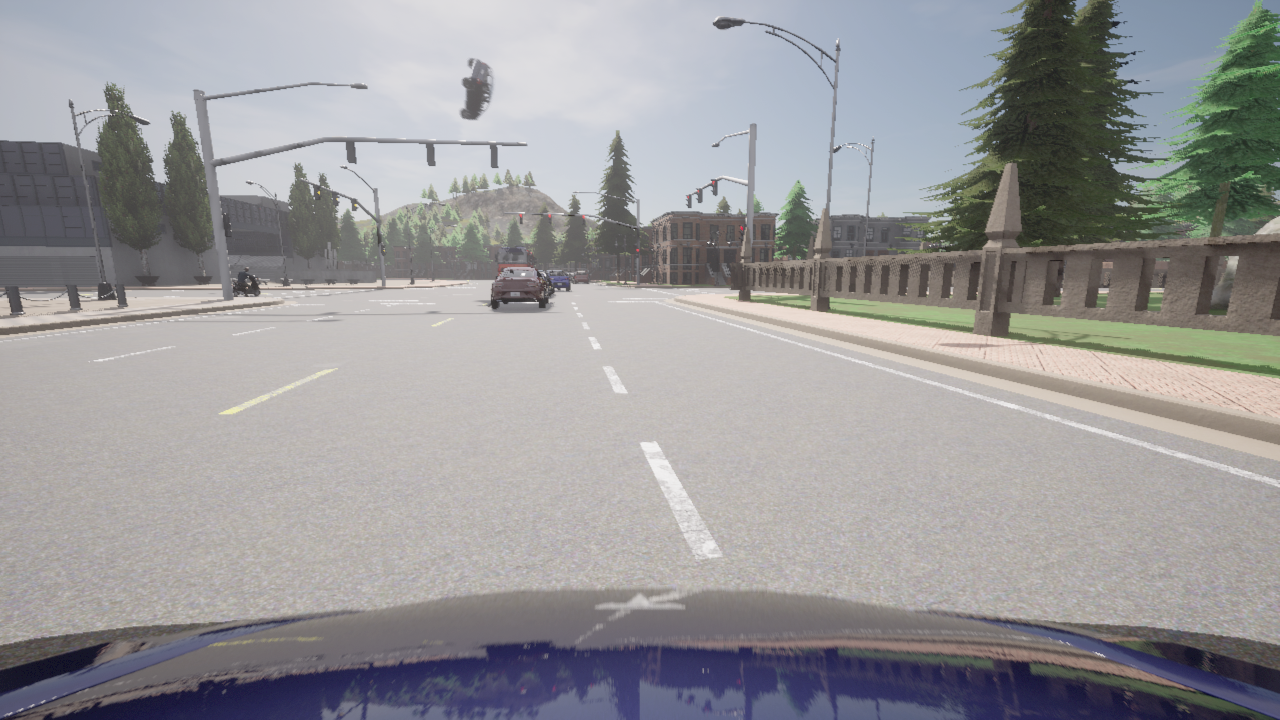cyclist: (0, 588, 1279, 719), (487, 267, 551, 308), (460, 58, 493, 120), (495, 245, 531, 275), (232, 275, 259, 296), (545, 270, 570, 291), (538, 270, 554, 296), (572, 271, 588, 283), (565, 272, 574, 281), (530, 252, 535, 267)
